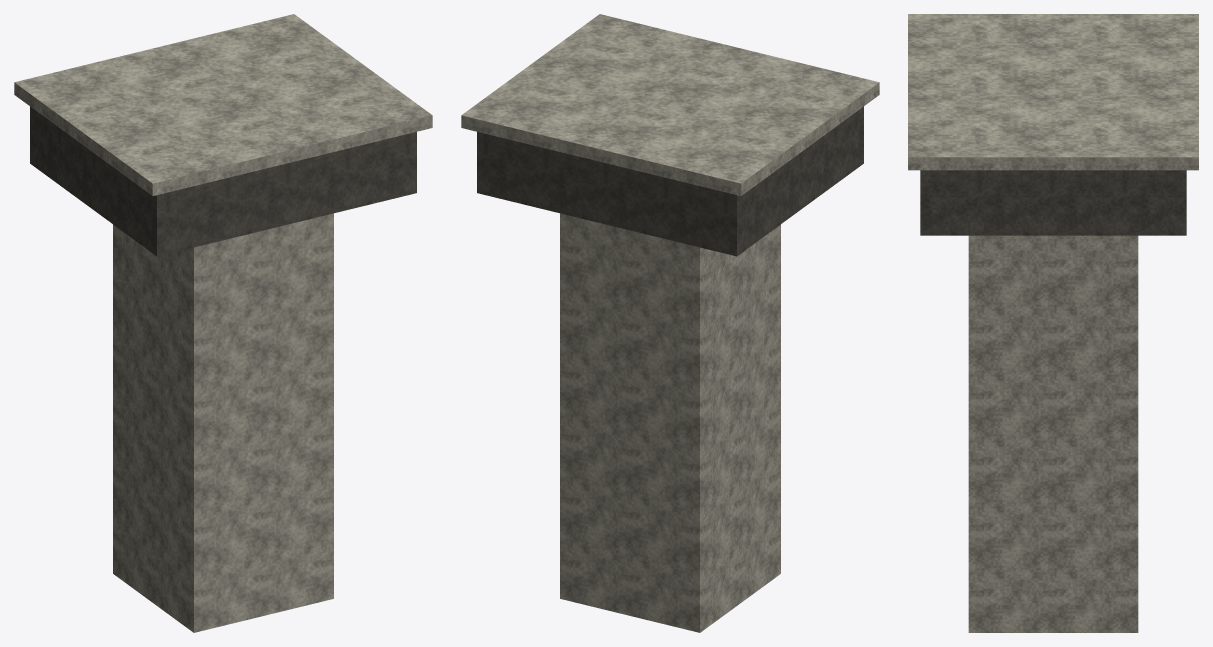
The model's file is Strategic_ControlTower.fbx.
The picture shows the model from 3 angles, left to right: view 1: azimuth 30°, elevation 25°; view 2: azimuth 150°, elevation 25°; view 3: azimuth 270°, elevation 25°; orthographic projection. The views are drawn at different scales.
Parts seen in each view (by area): view 1: Strategic_ControlTower; view 2: Strategic_ControlTower; view 3: Strategic_ControlTower.
Part boxes in pixels (bbox=[...]): Strategic_ControlTower: bbox=[14, 14, 432, 632]; Strategic_ControlTower: bbox=[461, 14, 879, 632]; Strategic_ControlTower: bbox=[908, 14, 1198, 632].
Size of the model in its own units: 1400 by 2330 by 1200.
